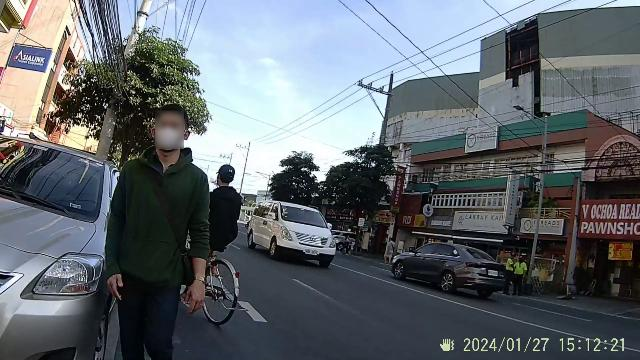utility_post: (348, 65, 404, 254)
